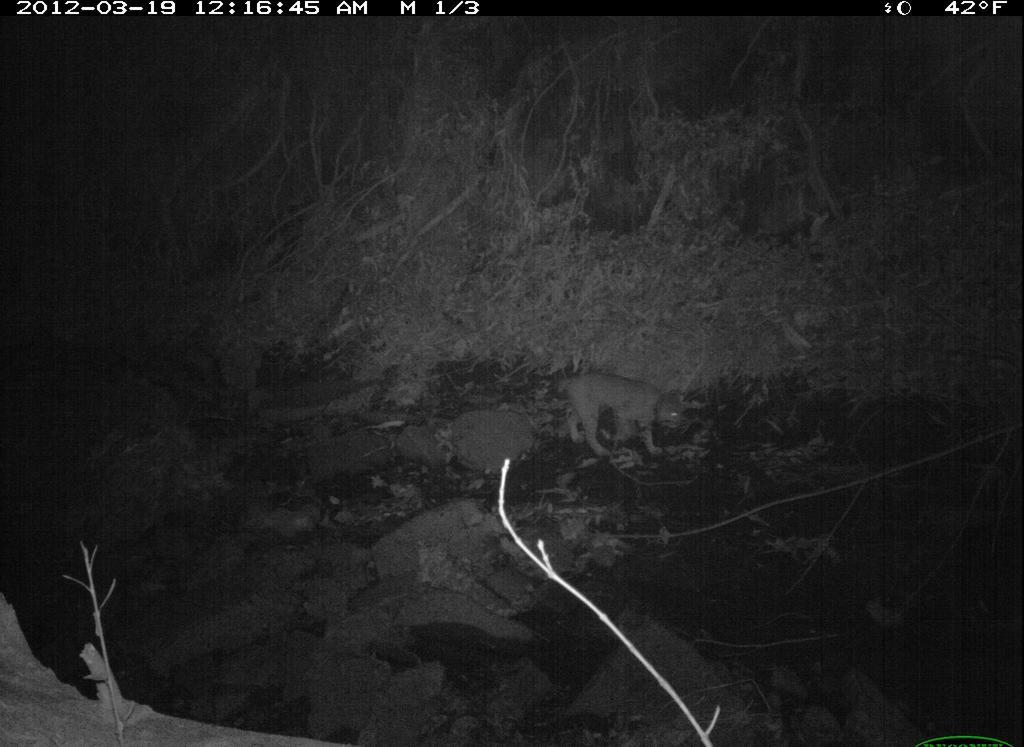bobcat: (551, 369, 705, 477)
